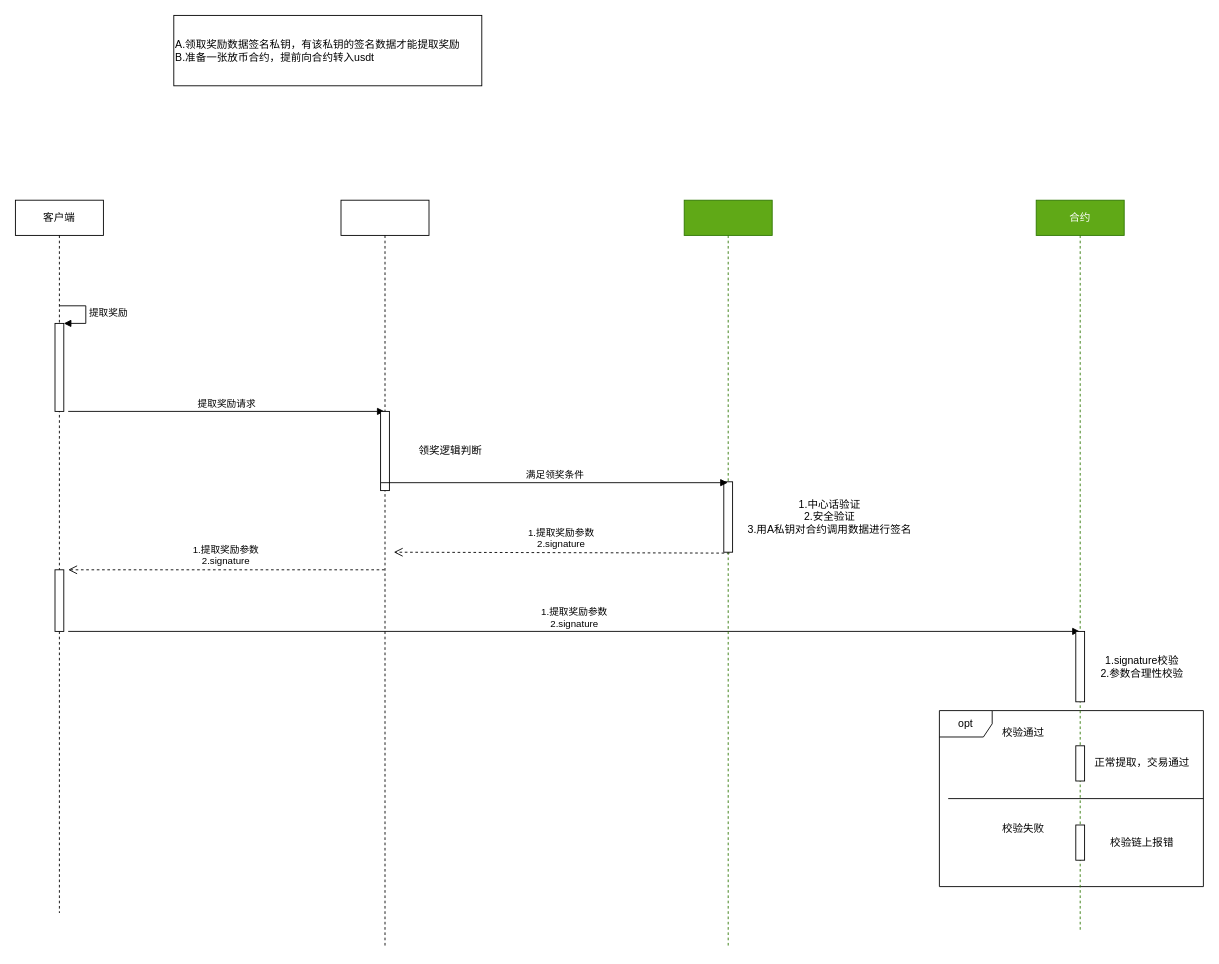
This 1219x964 diagram has some shape labels left out. The box of each missing label's shape, as (x1, y1, x2, y2) in pixels:
服务器: (683, 199, 772, 948)
游戏服务器: (340, 199, 429, 948)
